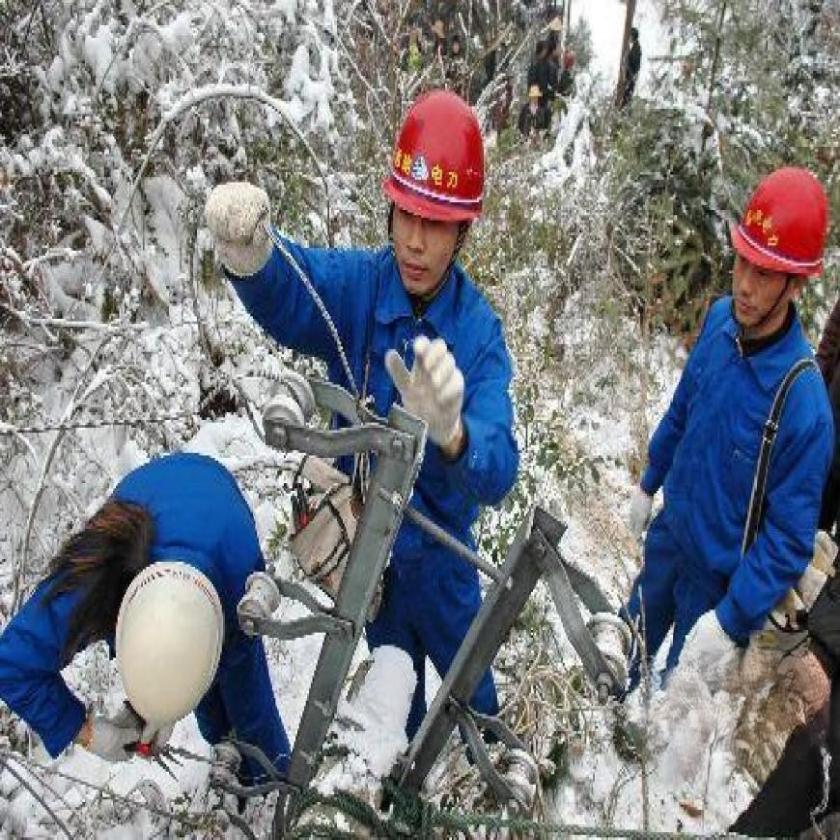Con_casco: (704, 128, 840, 340), (390, 97, 488, 284)
